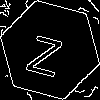Z: (25, 25, 67, 78)
